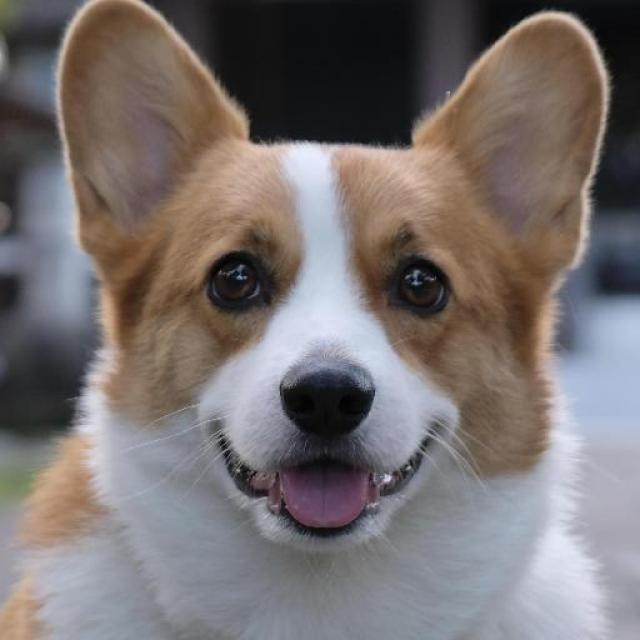adult_dog: (1, 0, 611, 640)
